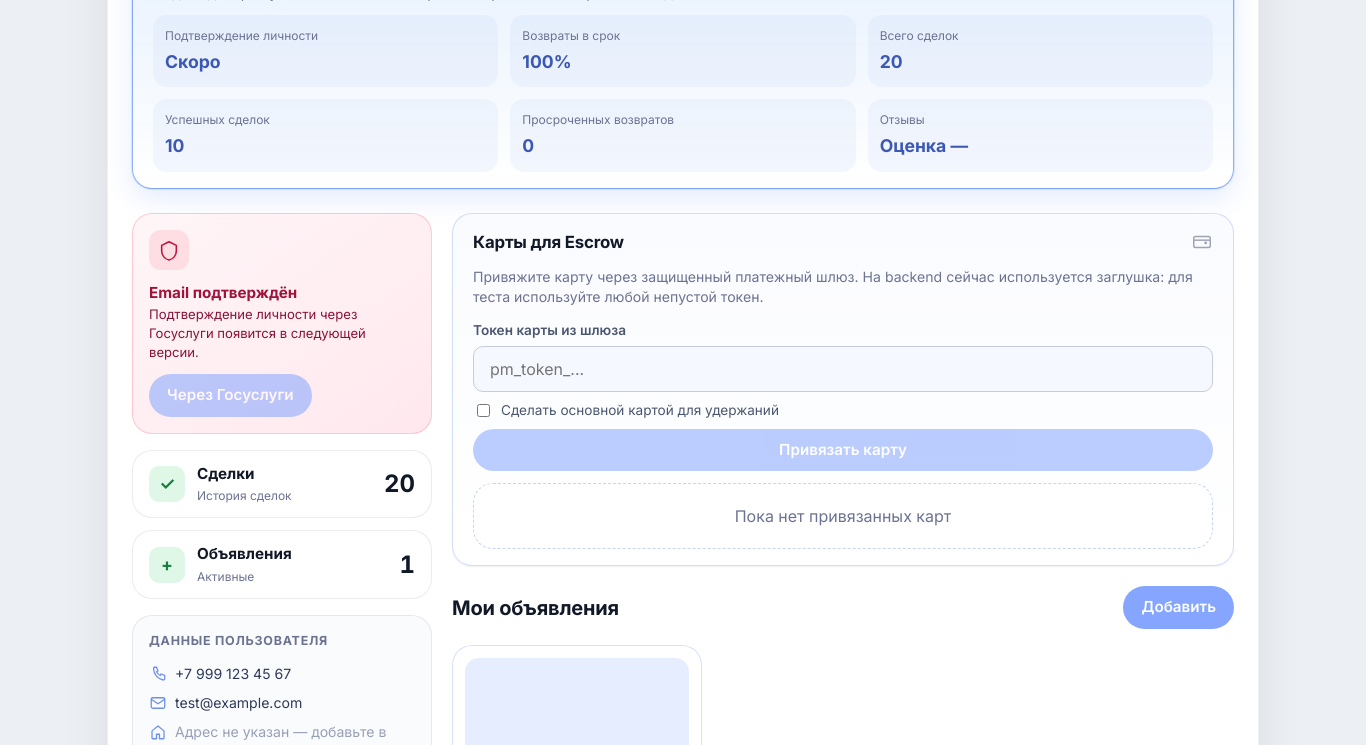
ProfilePage › attaches card from gateway token
(page scrolled)
In the field labelled "Токен карты из шлюза": (843, 369) [473,346,1213,392], type "pm_token_escrow_1"
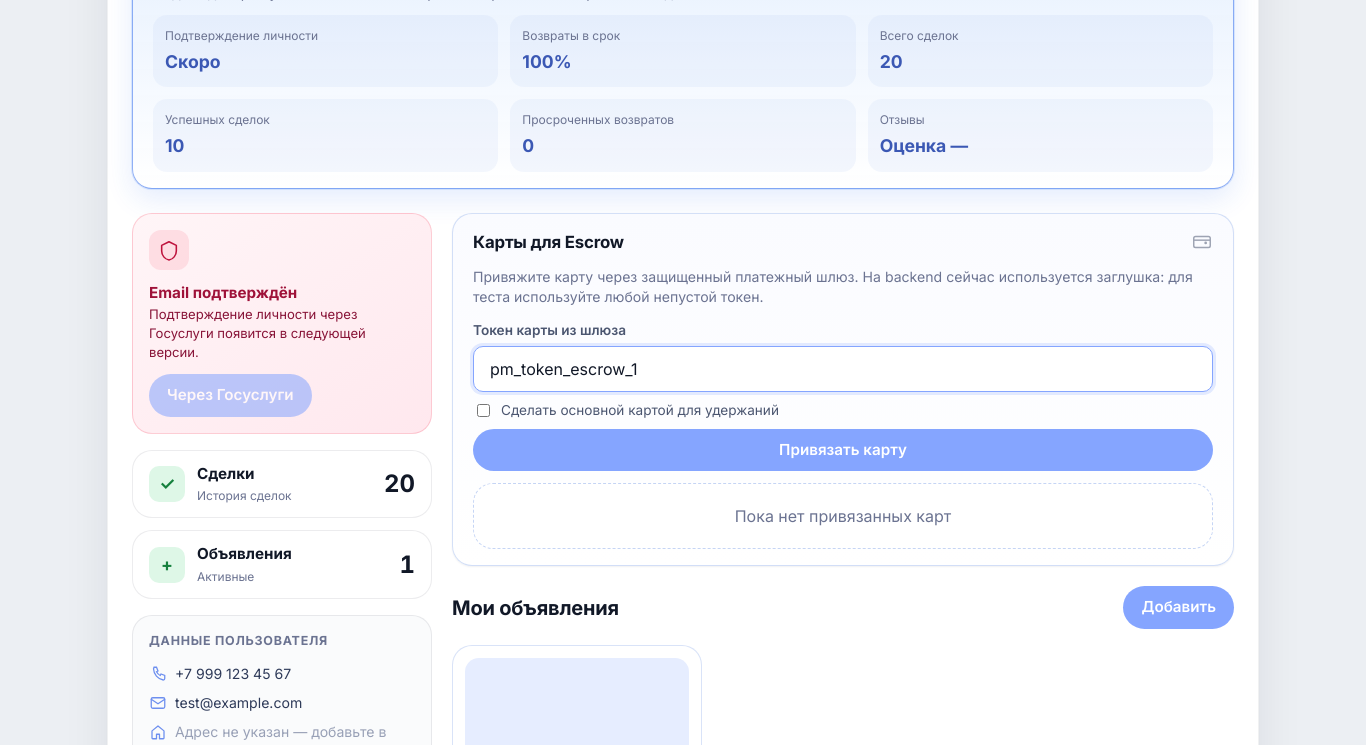
Click the button "Привязать карту": (843, 450) [473,429,1213,471]
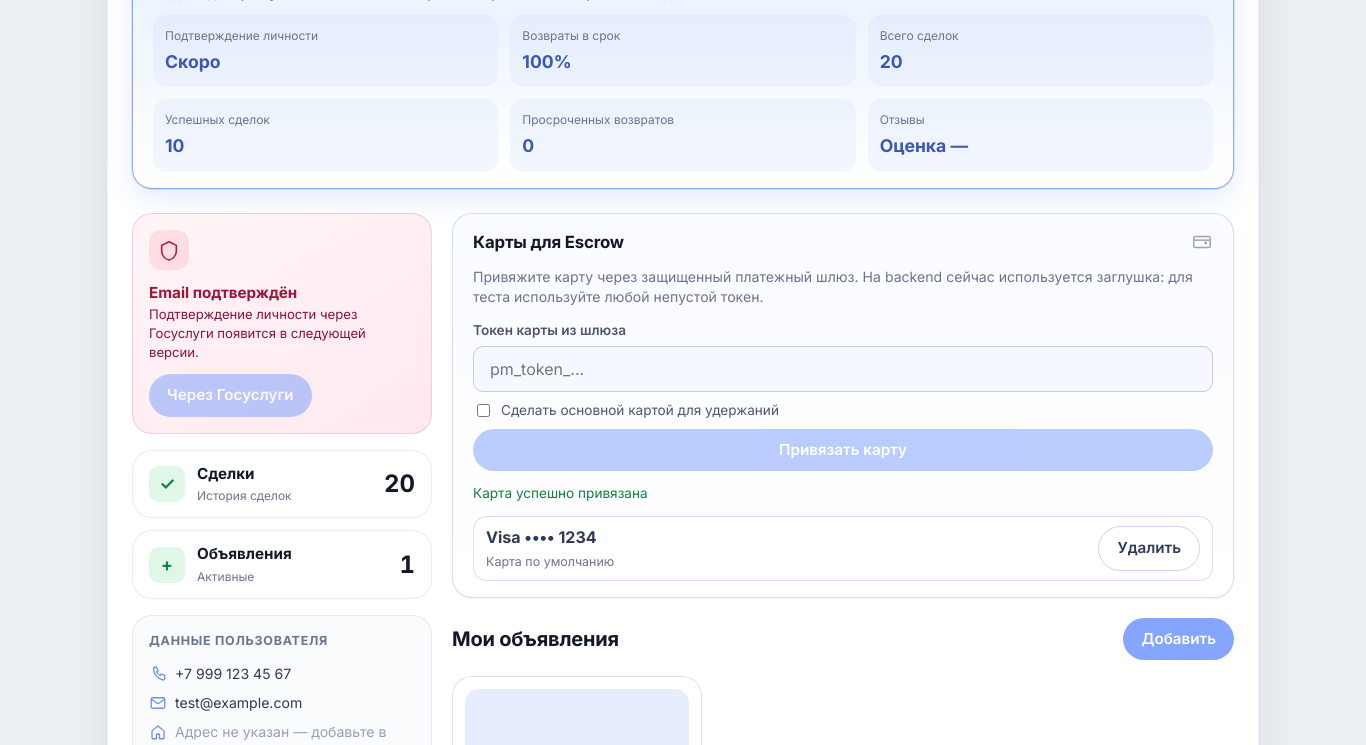
Check: the text "Карта успешно привязана" is shown, box [473,485,648,501]
Check: the text "Visa •••• 1234" is shown, box [486,527,597,547]
